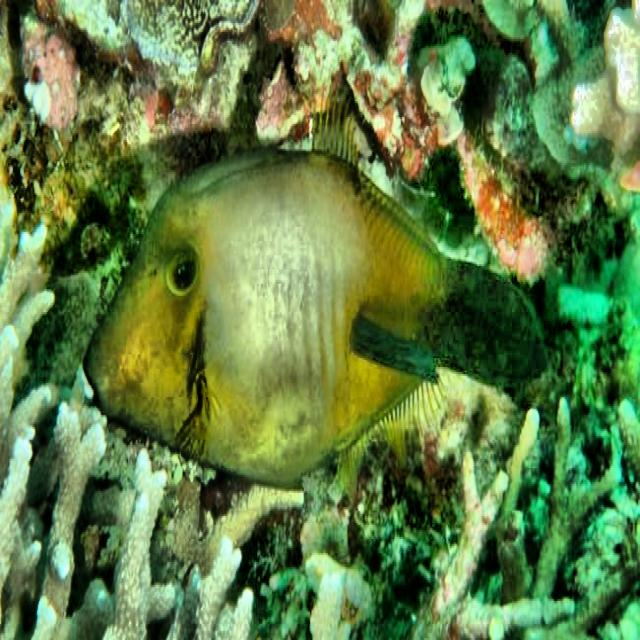fish: (81, 101, 542, 504)
